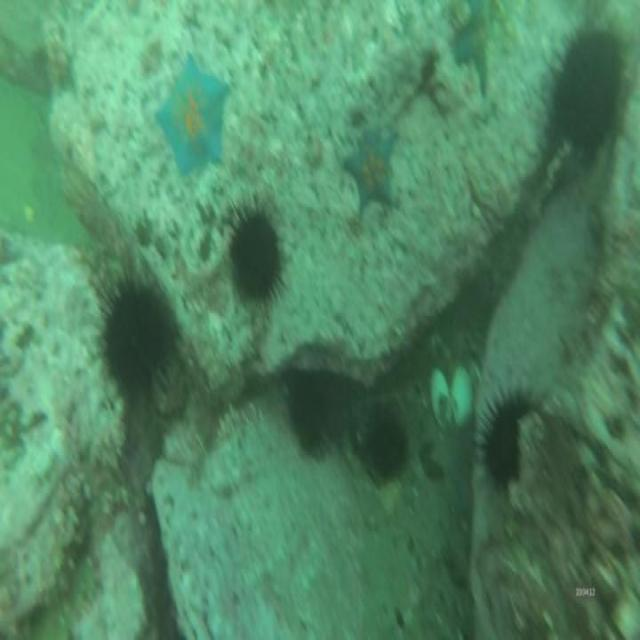echinus: (556, 30, 622, 144), (105, 290, 166, 382), (232, 212, 279, 296), (486, 392, 522, 480), (290, 373, 326, 446), (370, 417, 406, 474)
scallop: (429, 366, 475, 432)
starfish: (158, 63, 228, 172), (345, 131, 397, 210), (456, 3, 492, 95)
